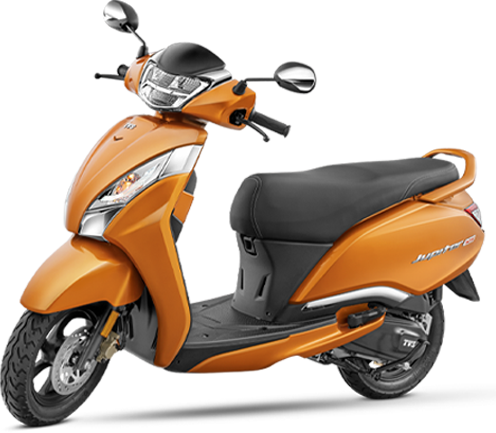bike: (16, 5, 474, 424)
